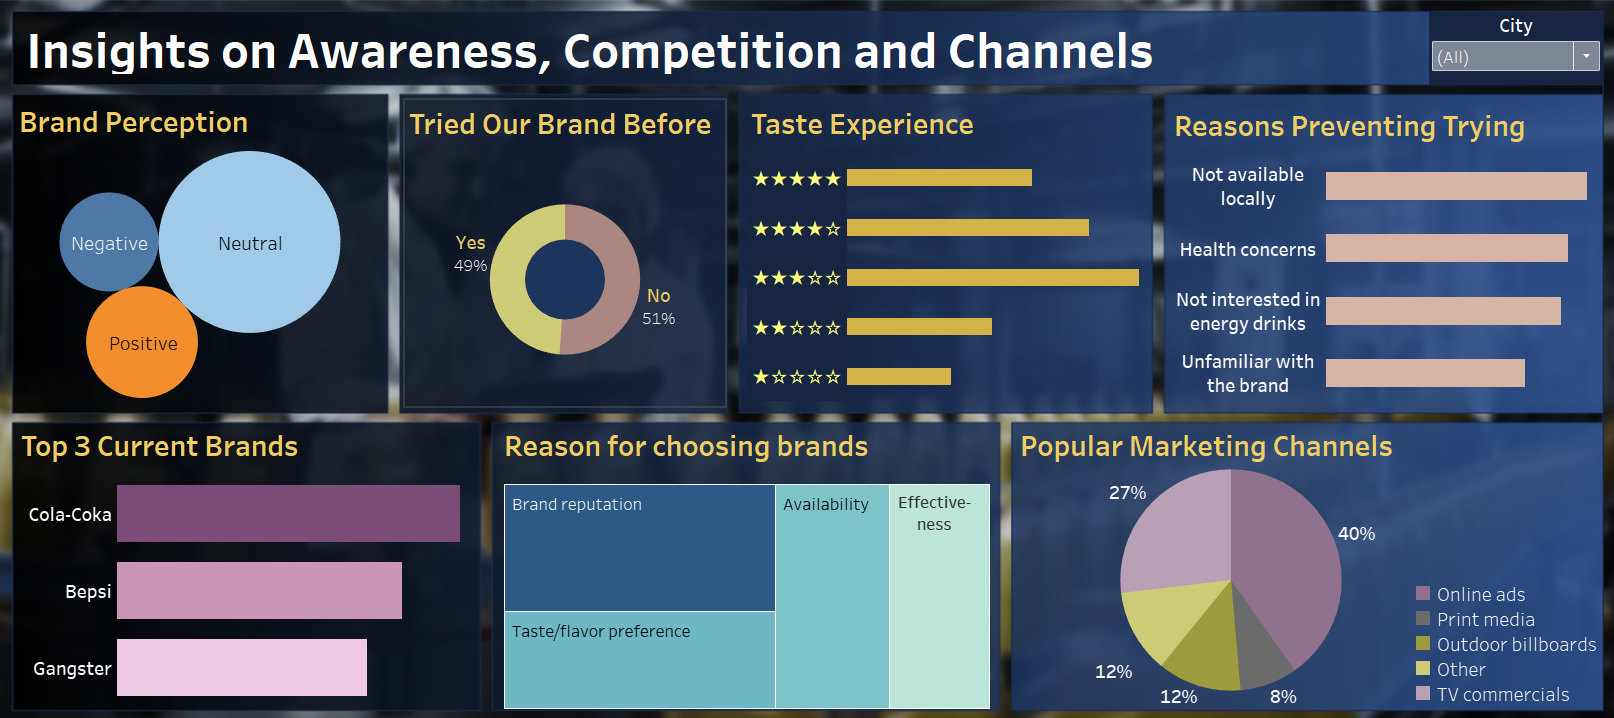

Layout of this report page (visuals, bound fields, positions):
{"tool":"tableau","page":{"name":"Insights on Awareness, Competition and Channels","canvas":[1650,745],"ordinal":1},"visuals":[{"type":"image","param":"Image/Dashboard 2 Dark.png","box":[8,8,1634,729]},{"type":"filter","title":"Brand Perception","param":"[federated.0u73ljb0ovk89u1ahplis0u99e4v].[none:City:nk]","box":[1445,24,174,73]},{"type":"text","box":[38,34,1444,52]},{"type":"worksheet","title":"Brand Perception","mark":"Circle","box":[31,110,370,300]},{"type":"worksheet","title":"Tried Before","mark":"Pie","rows":["Calculation_909727163993182209","Calculation_909727163993182209"],"box":[421,112,320,306]},{"type":"worksheet","title":"Taste Experience","mark":"Automatic","rows":["Calculation_111182655003602944"],"cols":["fact!surveys_55AF313EACDF4B3BAE9BA79FE6BBC06D"],"box":[763,112,407,301]},{"type":"worksheet","title":"Reasons preventing trying","mark":"Automatic","rows":["Reasons_preventing_trying"],"cols":["fact!surveys_55AF313EACDF4B3BAE9BA79FE6BBC06D"],"box":[1186,114,430,302]},{"type":"worksheet","title":"Current Brands","mark":"Automatic","rows":["Current_brands"],"cols":["fact!surveys_55AF313EACDF4B3BAE9BA79FE6BBC06D"],"box":[33,434,460,284]},{"type":"text","box":[1032,436,478,41]},{"type":"text","box":[516,438,485,38]},{"type":"worksheet","title":"Marketing Channels","mark":"Pie","box":[1040,462,414,260]},{"type":"worksheet","title":"Reasons for choosing current brand","mark":"Automatic","box":[516,492,514,232]},{"type":"legend","title":"Marketing Channels","param":"[federated.0u73ljb0ovk89u1ahplis0u99e4v].[none:Marketing_channels:nk]","box":[1427,593,191,130]}]}

Visuals, with their boxes in screenshot pixels (x1, y1, x2, y2), scaled from the page's 1650x745 canvas onto the 1614x718 screenshot:
image: 8/8/1606/710
"Brand Perception" filter: 1413/23/1584/93
text: 37/33/1450/83
"Brand Perception" worksheet (Circle marks): 30/106/392/395
"Tried Before" worksheet (Pie marks): 412/108/725/403
"Taste Experience" worksheet: 746/108/1144/398
"Reasons preventing trying" worksheet: 1160/110/1581/401
"Current Brands" worksheet: 32/418/482/692
text: 1009/420/1477/460
text: 505/422/979/459
"Marketing Channels" worksheet (Pie marks): 1017/445/1422/696
"Reasons for choosing current brand" worksheet: 505/474/1008/698
"Marketing Channels" legend: 1396/572/1583/697
